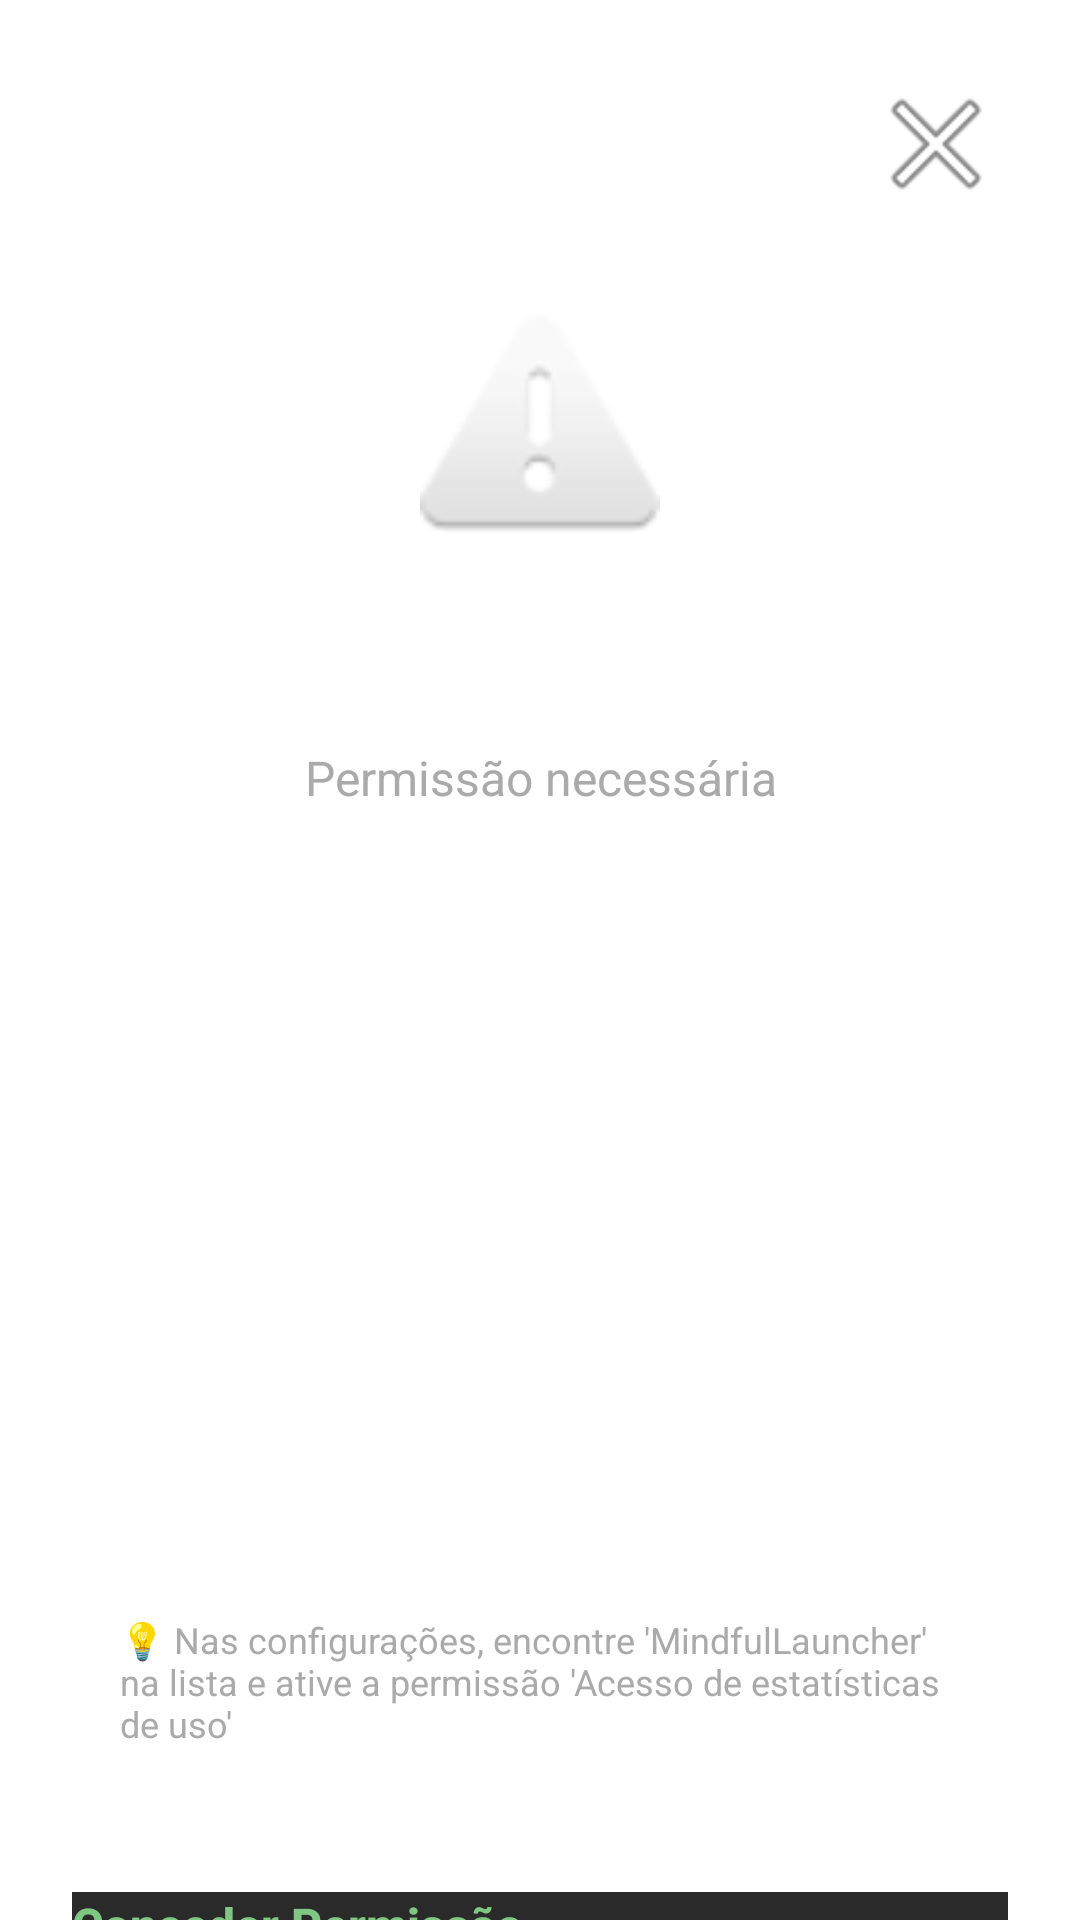

Where icons sit on this 1080 × 1920 app screen, as (x1, y1, x2, y2):
Fechar: (891, 99, 981, 189)
Status da permissão: (420, 368, 660, 530)
